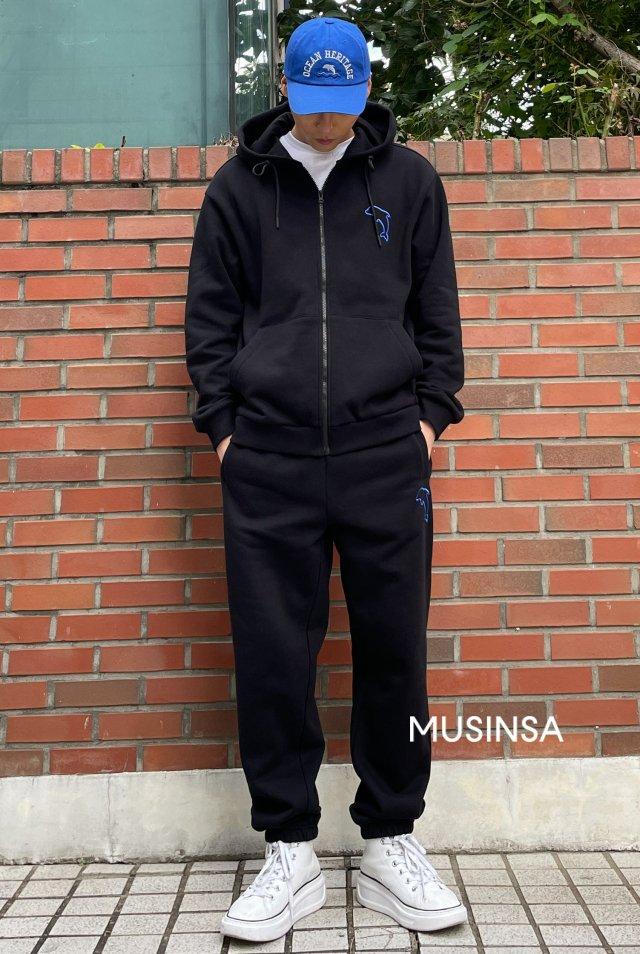Cap: (278, 20, 372, 118)
Outer: (180, 102, 468, 456)
Shoes: (200, 837, 486, 948)
Training pants: (214, 430, 448, 844)
